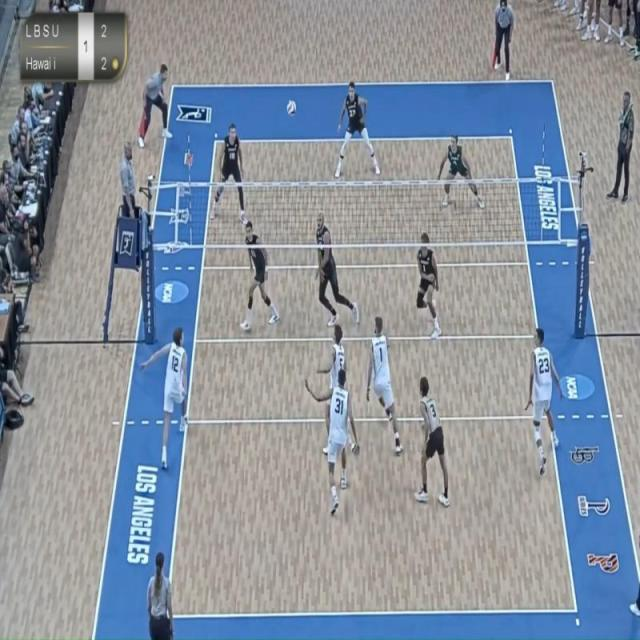volleyball: (285, 95, 299, 120)
